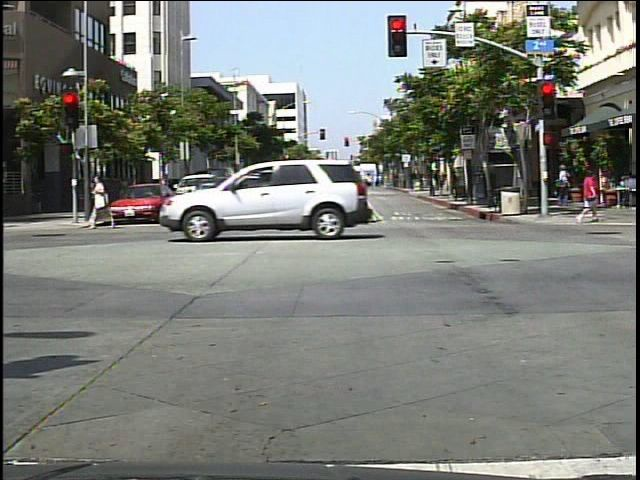person: (573, 169, 606, 230), (88, 172, 119, 236), (553, 161, 573, 210)
